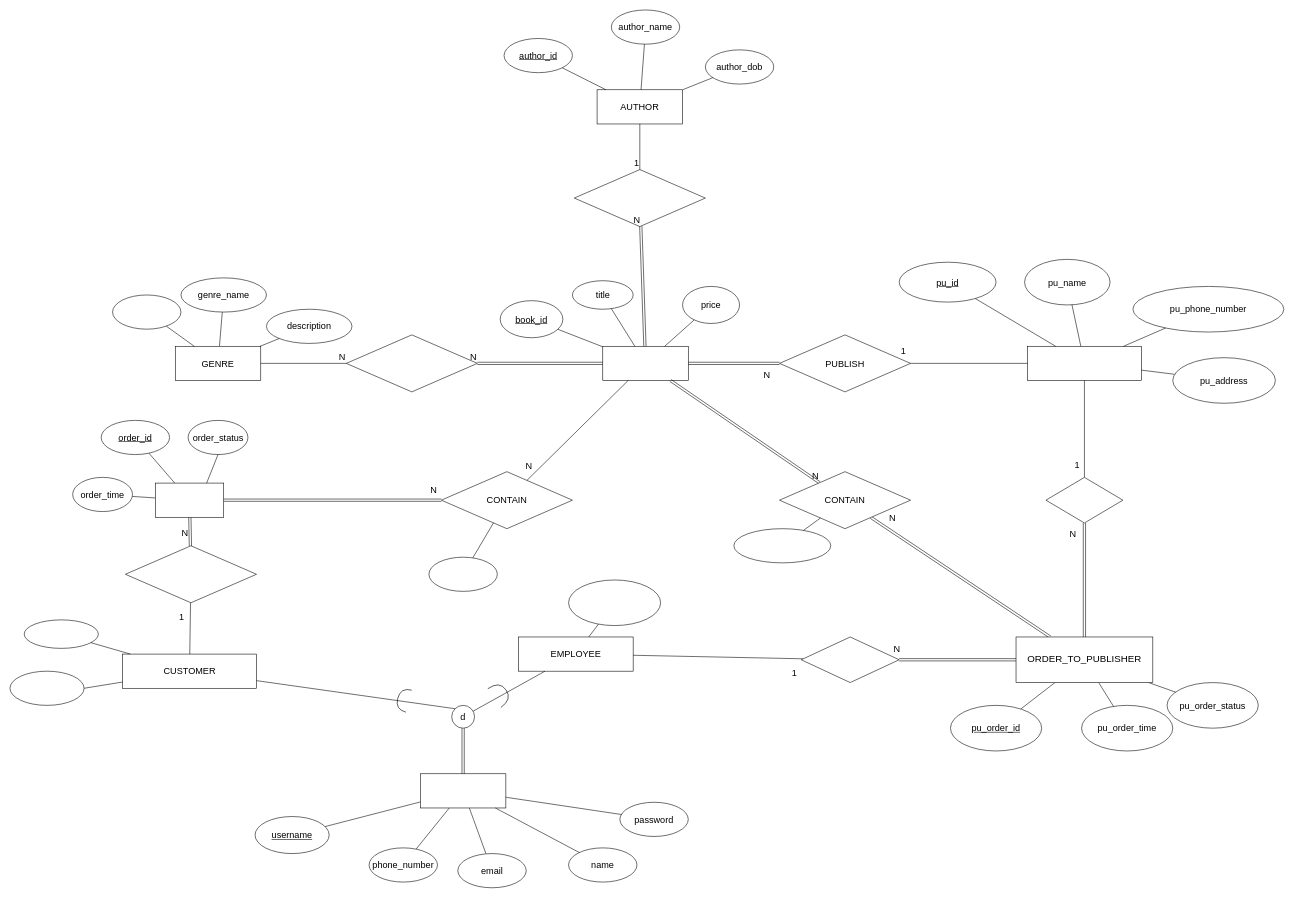
This 1294x898 diagram has some shape labels left out. The shapes that lost their labels are listed below. From the top down, each one's centre as x and y in pixels, then its label:
At (x=639, y=198): "WRITE".
At (x=146, y=311): "gen_id".
At (x=411, y=363): "HAS".
At (x=645, y=363): "BOOK".
At (x=1084, y=363): "PUBLISHER".
At (x=189, y=500): "ORDER".
At (x=1084, y=500): "SEND_TO".
At (x=782, y=545): "pu_order_quantity".
At (x=190, y=574): "MAKE_ORDER".
At (x=462, y=574): "order_quantity".
At (x=614, y=602): "employee_id".
At (x=61, y=633): "address".
At (x=850, y=659): "PLACE_ORDER".
At (x=46, y=688): "bank_acc".
At (x=463, y=790): "USER".
